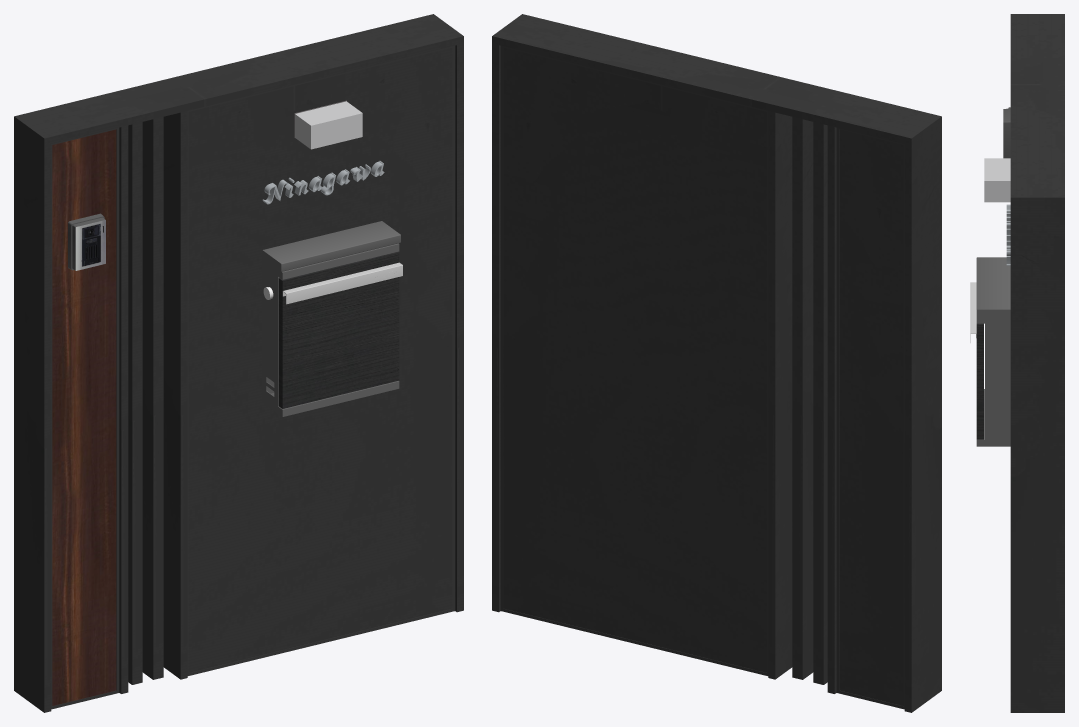
The model's file is ab46_organwooddark.fbx.
3 renders of one model, left to right at view 1: azimuth 30°, elevation 25°; view 2: azimuth 150°, elevation 25°; view 3: azimuth 270°, elevation 25°, orthographic. The views are drawn at different scales.
Visible parts, largest first — view 1: ab46-orgunwooddark2; view 2: ab46-orgunwooddark2; view 3: ab46-orgunwooddark2.
Part boxes in pixels (x1,y1,x2,y2): ab46-orgunwooddark2: [14, 14, 463, 712]; ab46-orgunwooddark2: [492, 14, 941, 712]; ab46-orgunwooddark2: [970, 14, 1064, 712].
Size of the model in its own units: 120 by 157 by 26.16.
Materials: 16 (5 with a texture image).
